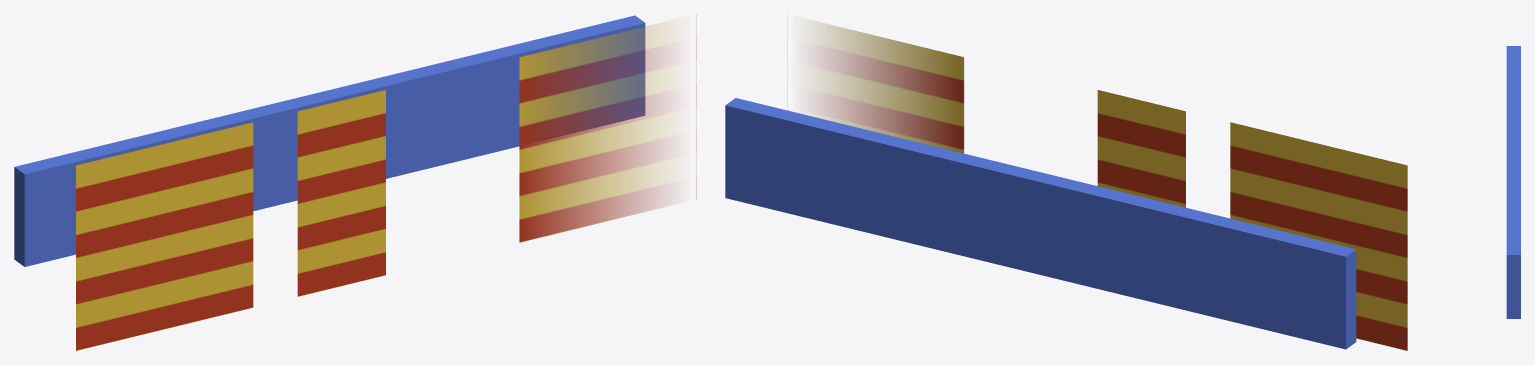
Rendered from alpha_modes.glb.
3 views of the same model, side by side, from view 1: azimuth 30°, elevation 25°; view 2: azimuth 150°, elevation 25°; view 3: azimuth 270°, elevation 25° (orthographic). The views are drawn at different scales.
Parts seen in each view (by area): view 1: backdrop, opaque, blend, mask; view 2: backdrop, opaque, blend, mask; view 3: backdrop.
Boxes of the visible parts, x1,y1,x2,y2 form: backdrop: [14, 15, 645, 266]; opaque: [76, 122, 253, 350]; blend: [519, 14, 696, 242]; mask: [297, 90, 385, 296]; backdrop: [725, 98, 1356, 349]; opaque: [1230, 122, 1407, 350]; blend: [814, 21, 964, 153]; mask: [1097, 90, 1185, 207]; backdrop: [1506, 46, 1520, 318].
Bounding box in the file's own units: 0.07 × 0.02 × 0.012.
4 materials, 3 textured.
